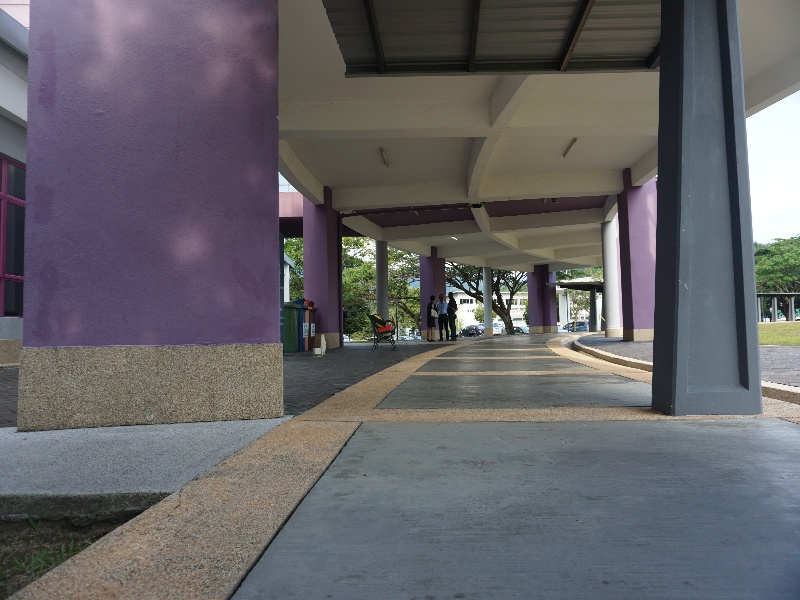pillar: (22, 2, 302, 436), (514, 269, 561, 324), (485, 263, 500, 342)
